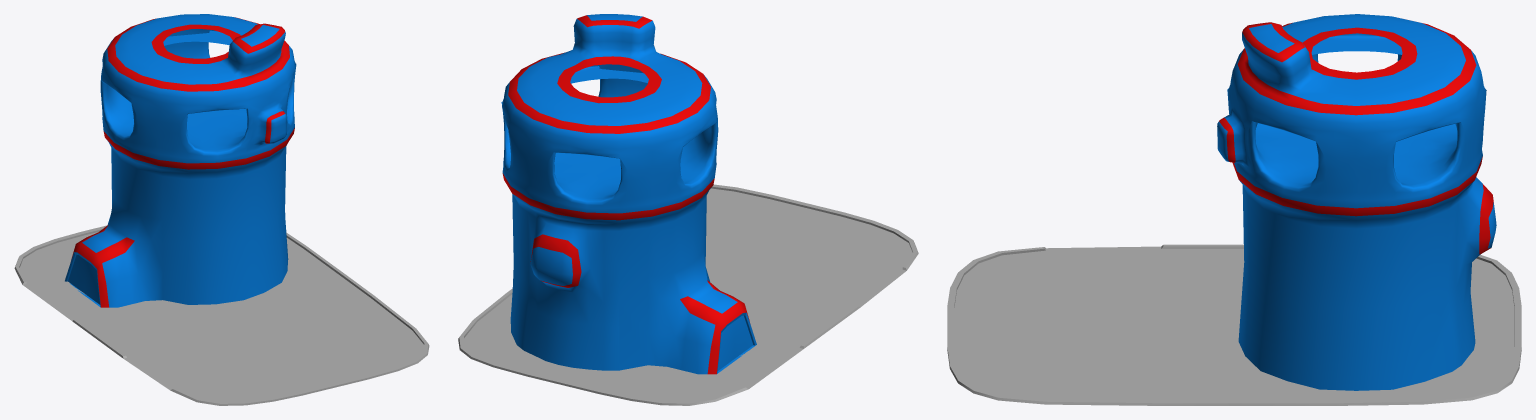
File: MainTower.fbx
3 views of the same model, side by side, from view 1: azimuth 30°, elevation 25°; view 2: azimuth 150°, elevation 25°; view 3: azimuth 270°, elevation 25° (orthographic). The views are drawn at different scales.
Visible parts, largest first — view 1: pCylinder6, pPlane1; view 2: pCylinder6, pPlane1; view 3: pCylinder6, pPlane1.
Boxes of the visible parts, x1,y1,x2,y2 form: pCylinder6: (65,14,296,307); pPlane1: (14,225,429,405); pCylinder6: (501,14,756,374); pPlane1: (458,184,918,405); pCylinder6: (1217,14,1496,390); pPlane1: (947,244,1521,405).
Size of the model in its own units: 285 by 270 by 434.
